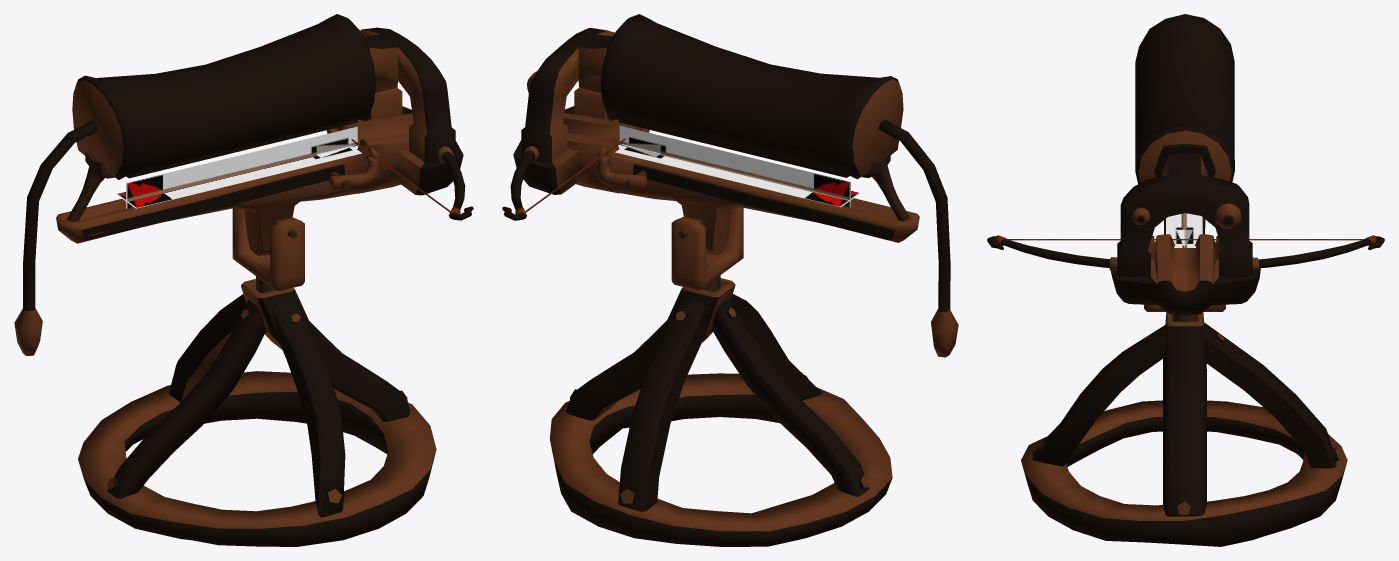
File: AutoCrossBow.FBX
3 renders of one model, left to right at view 1: azimuth 30°, elevation 25°; view 2: azimuth 150°, elevation 25°; view 3: azimuth 270°, elevation 25°, orthographic. The views are drawn at different scales.
Visible parts, largest first — view 1: BallistaTop, Ballista_Base, ArrowPlane2, Tail, RotationBase, PullMechanicLine, ArrowPlane1, Bow, Door_R, RopePuller2; view 2: BallistaTop, Ballista_Base, ArrowPlane2, Tail, RotationBase, PullMechanicLine, ArrowPlane1, Bow, Door_L, RopePuller1; view 3: Ballista_Base, BallistaTop, Bow, ArrowPlane1, L_Eye.
Boxes of the visible parts, x1=… form: BallistaTop: x1=56, y1=14, x2=463, y2=255; Ballista_Base: x1=78, y1=279, x2=436, y2=546; ArrowPlane2: x1=126, y1=126, x2=357, y2=208; Tail: x1=14, y1=121, x2=97, y2=355; RotationBase: x1=232, y1=208, x2=304, y2=291; PullMechanicLine: x1=81, y1=164, x2=344, y2=240; ArrowPlane1: x1=116, y1=145, x2=361, y2=208; Bow: x1=335, y1=128, x2=473, y2=220; Door_R: x1=126, y1=119, x2=357, y2=178; RopePuller2: x1=329, y1=147, x2=378, y2=188; BallistaTop: x1=513, y1=14, x2=919, y2=255; Ballista_Base: x1=550, y1=278, x2=892, y2=546; ArrowPlane2: x1=619, y1=125, x2=850, y2=207; Tail: x1=878, y1=119, x2=958, y2=357; RotationBase: x1=671, y1=207, x2=743, y2=290; PullMechanicLine: x1=633, y1=164, x2=895, y2=240; ArrowPlane1: x1=615, y1=144, x2=860, y2=207; Bow: x1=502, y1=127, x2=640, y2=220; Door_L: x1=618, y1=119, x2=849, y2=177; RopePuller1: x1=597, y1=146, x2=647, y2=188; Ballista_Base: x1=1021, y1=312, x2=1347, y2=546; BallistaTop: x1=1111, y1=14, x2=1260, y2=315; Bow: x1=987, y1=235, x2=1384, y2=270; ArrowPlane1: x1=1166, y1=213, x2=1202, y2=247; L_Eye: x1=1215, y1=203, x2=1241, y2=228.
Bounding box in the file's own units: 146 × 146 × 131.
